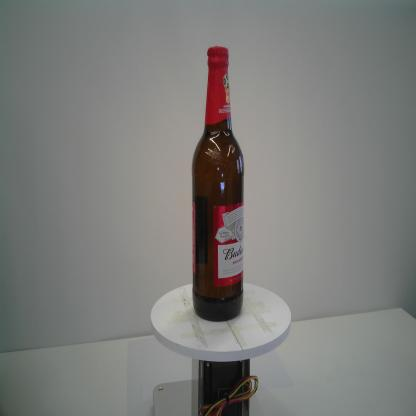Alcohol: (190, 44, 245, 324)
